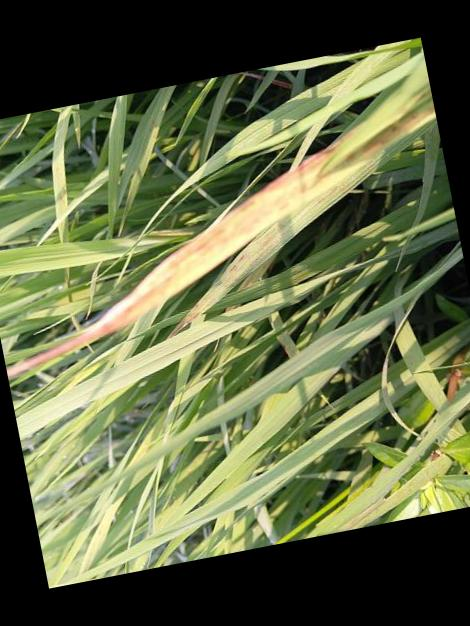Leaf Blight: (6, 97, 436, 380), (169, 212, 301, 338)
